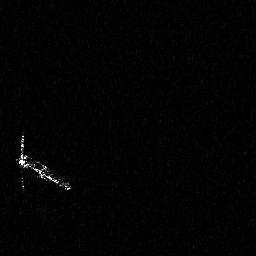ship: (13, 127, 73, 195)
